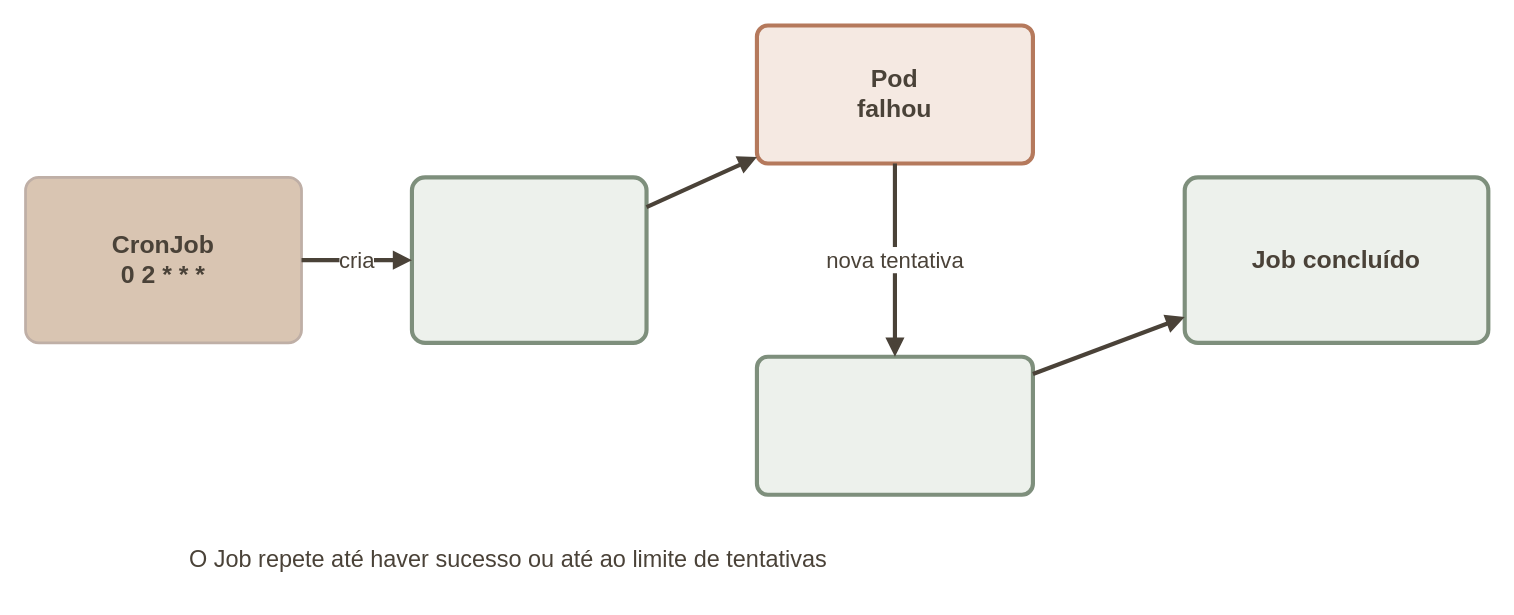
This 1514x615 diagram has some shape labels left out. The centre of each missing label's shape, as x and y in pixels:
"Job" goes at pixel 528 259.
"Pod concluiu" goes at pixel 894 425.
